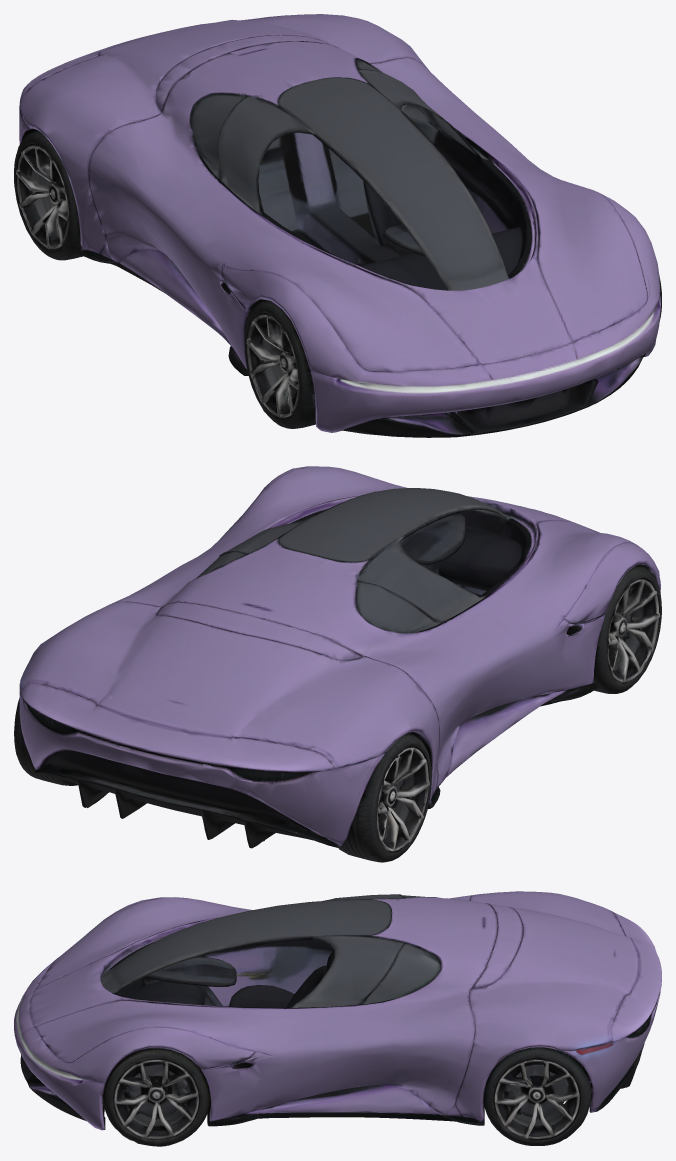
The model's file is car_super.glb.
3 views of the same model, one above another, from view 1: azimuth 30°, elevation 25°; view 2: azimuth 150°, elevation 25°; view 3: azimuth 270°, elevation 25° (orthographic). The views are drawn at different scales.
Parts seen in each view (by area): view 1: tripo_node_49957849-4044-46cb-a738-c68089a70824; view 2: tripo_node_49957849-4044-46cb-a738-c68089a70824; view 3: tripo_node_49957849-4044-46cb-a738-c68089a70824.
Boxes of the visible parts, x1,y1,x2,y2 form: tripo_node_49957849-4044-46cb-a738-c68089a70824: [14, 14, 661, 437]; tripo_node_49957849-4044-46cb-a738-c68089a70824: [14, 466, 661, 862]; tripo_node_49957849-4044-46cb-a738-c68089a70824: [14, 891, 661, 1146].
Size of the model in its own units: 0.5238 by 0.2748 by 0.9792.
Materials: 1 (1 with a texture image).
